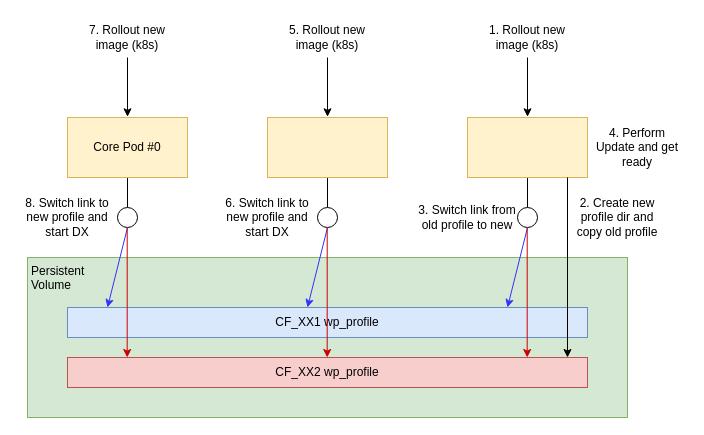
The diagram is 704 pixels wide and 435 high, and some of its shapes have lost their labels. The shapes that lost their labels are listed below. From the top down, each one's box as (x1, y1, x2, y2) in pixels, then its label:
(266, 116, 388, 178): Core Pod #1
(466, 116, 588, 178): Core Pod #2
